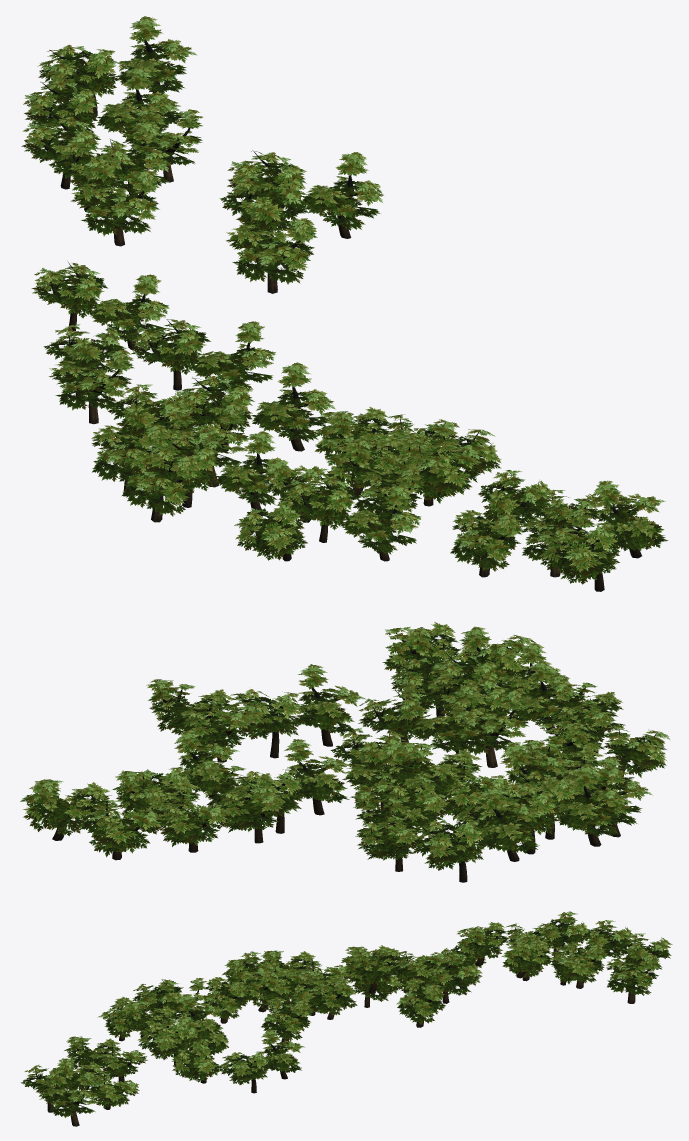
The model's file is Trees_12.fbx.
The picture shows the model from 3 angles, top to bottom: view 1: azimuth 30°, elevation 25°; view 2: azimuth 150°, elevation 25°; view 3: azimuth 270°, elevation 25°; orthographic projection. The views are drawn at different scales.
Visible parts, largest first — view 1: Trees_021; view 2: Trees_021; view 3: Trees_021.
Boxes of the visible parts, x1=… form: Trees_021: x1=21, y1=16, x2=668, y2=591; Trees_021: x1=20, y1=622, x2=669, y2=882; Trees_021: x1=21, y1=911, x2=672, y2=1126.
Size of the model in its own units: 5924 by 3268 by 12428.
